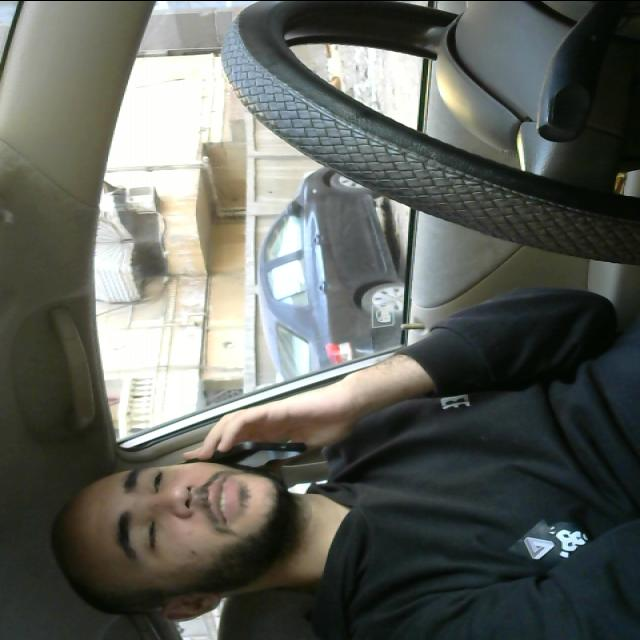mobile use: (178, 434, 316, 488)
